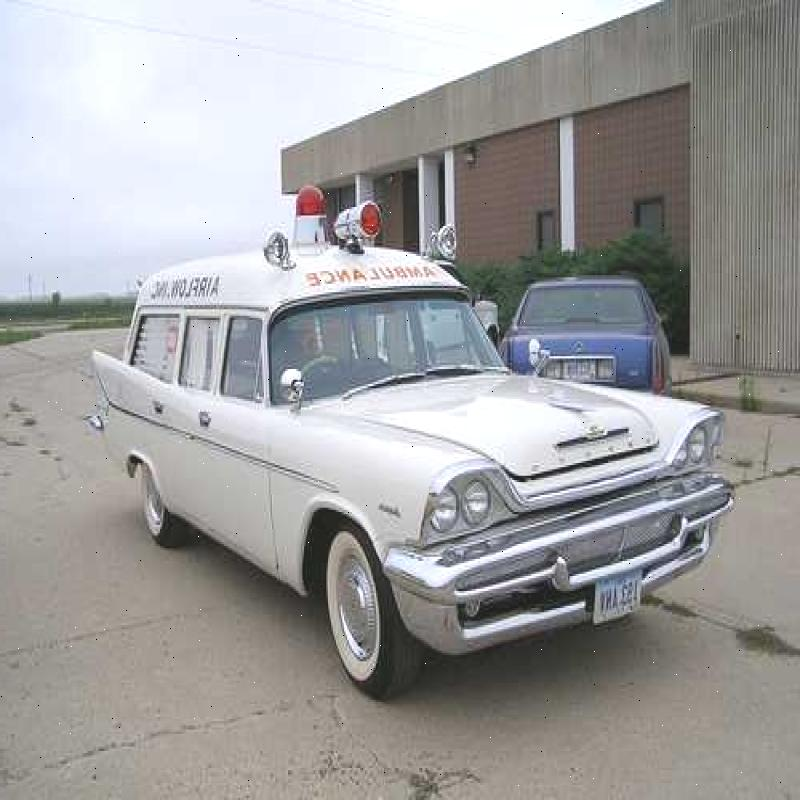AmbulanceSiren: (287, 185, 384, 265)
